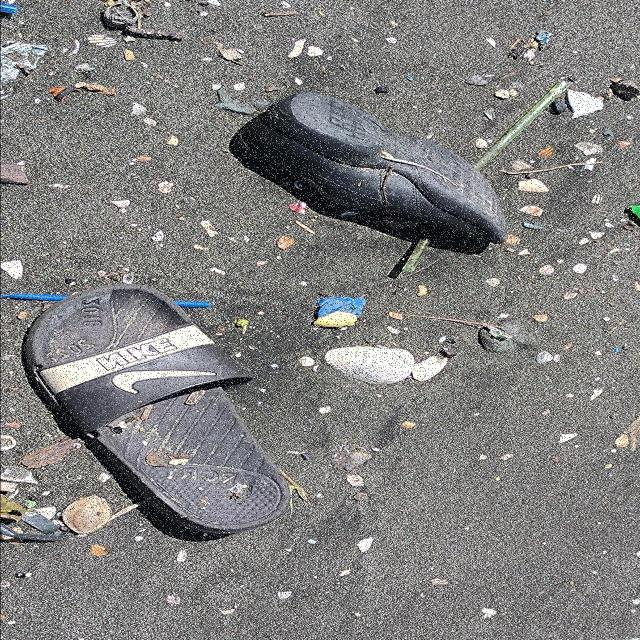rubber_waste: (24, 284, 293, 536), (237, 93, 510, 246)
